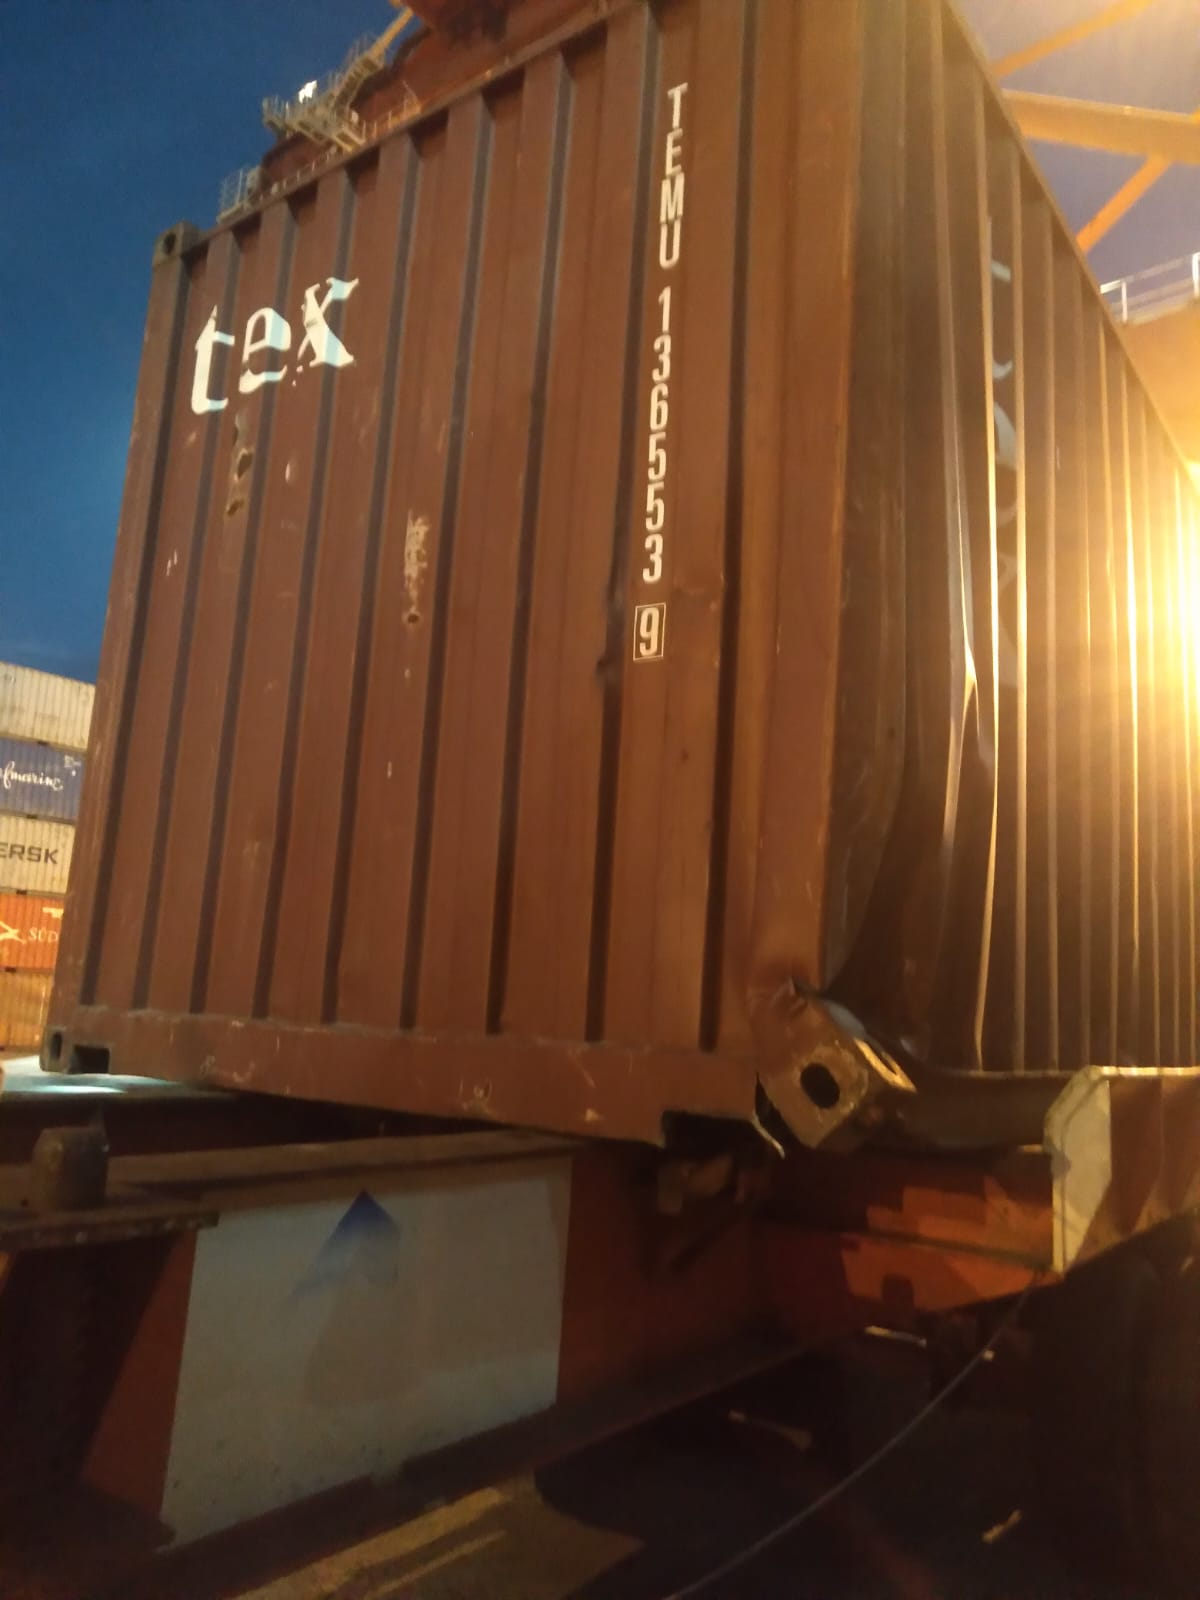bulged: (811, 489, 1046, 993)
dented: (705, 901, 895, 1143)
